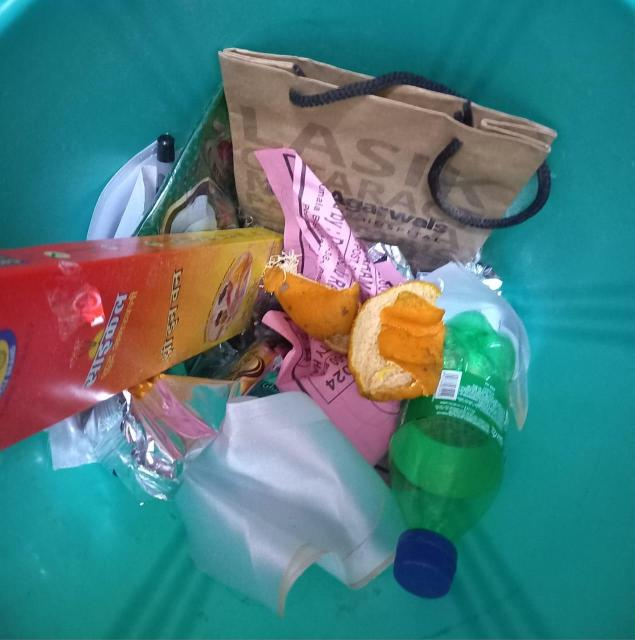Garbage: (0, 49, 555, 615)
Nylog_sting: (428, 139, 551, 229), (289, 72, 462, 108)
Plastic: (175, 392, 405, 616), (48, 375, 240, 499), (420, 262, 530, 428)
Plastic_bottle: (389, 310, 516, 598)
Plastic_wraper: (136, 89, 239, 235)
